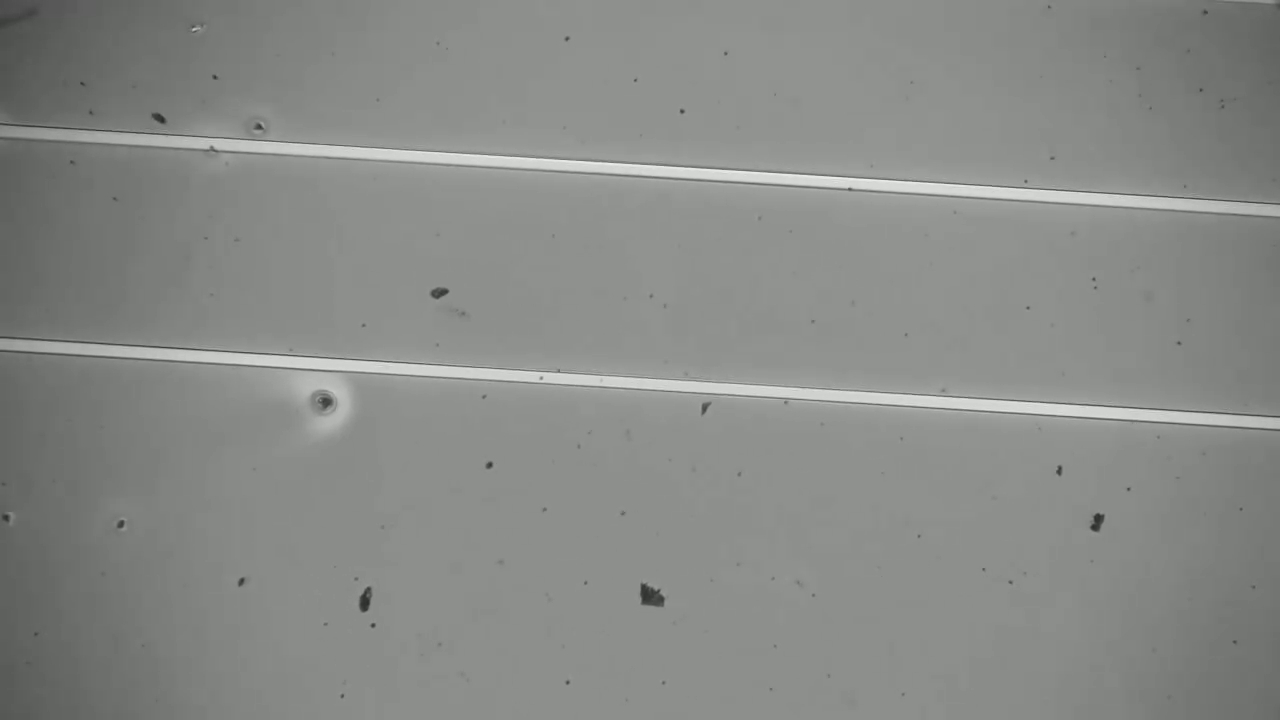stains_enbedded: (200, 132, 227, 162)
